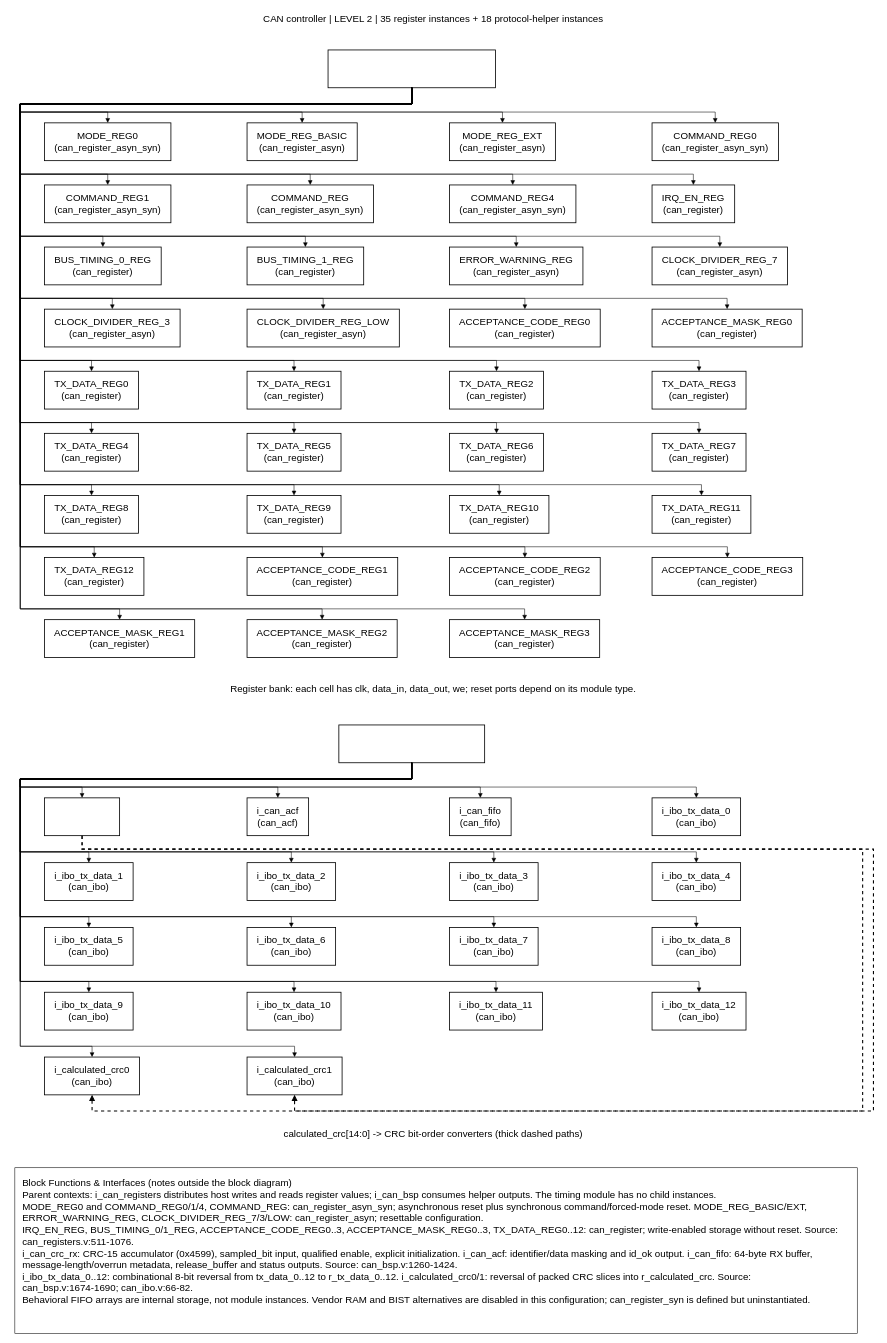
Image size: 887x1343. Some labels were removed from this diagram. Each missing label, with the centre of its shape:
i_can_bsp (can_bsp): the point at 411,743
i_can_crc_rx (can_crc): the point at 82,816
i_can_registers (can_registers): the point at 411,68
